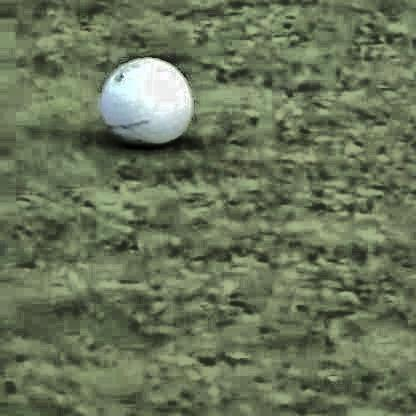golfball: (97, 55, 191, 144)
